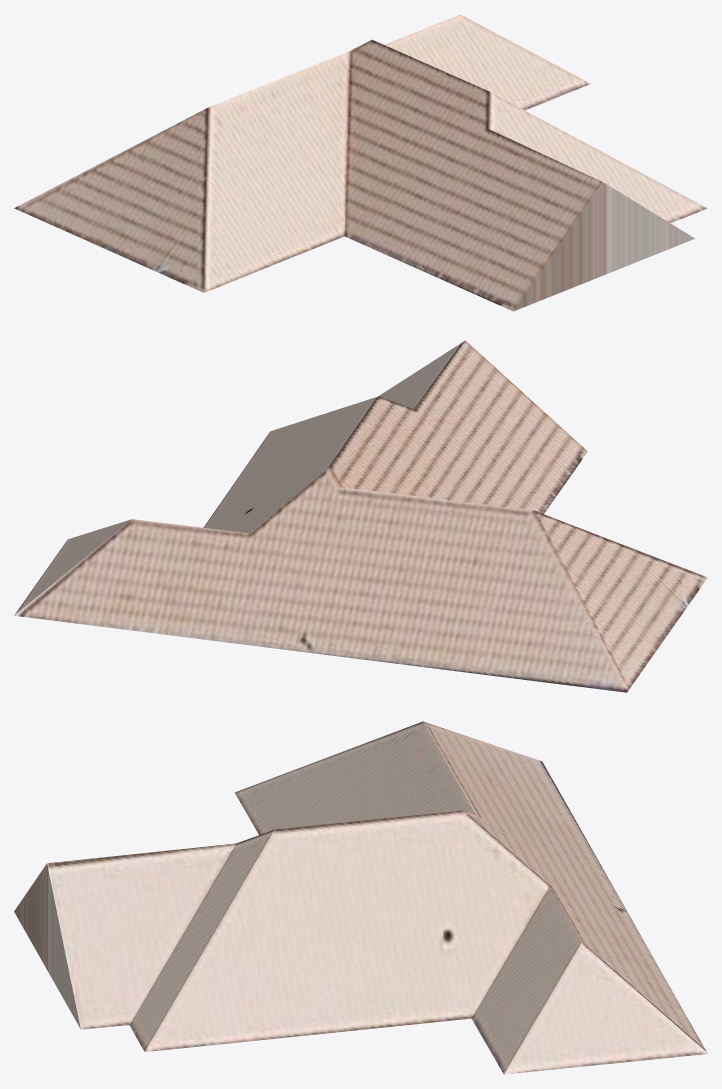
Rendered from BK39_500_018031_0029_roof.obj.
The picture shows the model from 3 angles, top to bottom: view 1: azimuth 30°, elevation 25°; view 2: azimuth 150°, elevation 25°; view 3: azimuth 270°, elevation 25°; orthographic projection. The views are drawn at different scales.
Visible parts, largest first — view 1: BK39_500_018031_0029_roof; view 2: BK39_500_018031_0029_roof; view 3: BK39_500_018031_0029_roof.
Boxes of the visible parts, left/top/right/bottom form: BK39_500_018031_0029_roof: left=14, top=14, right=707, bottom=311; BK39_500_018031_0029_roof: left=14, top=340, right=707, bottom=692; BK39_500_018031_0029_roof: left=14, top=721, right=707, bottom=1074.
Bounding box in the file's own units: 356 × 70 × 334.
Materials: 1 (1 with a texture image).
